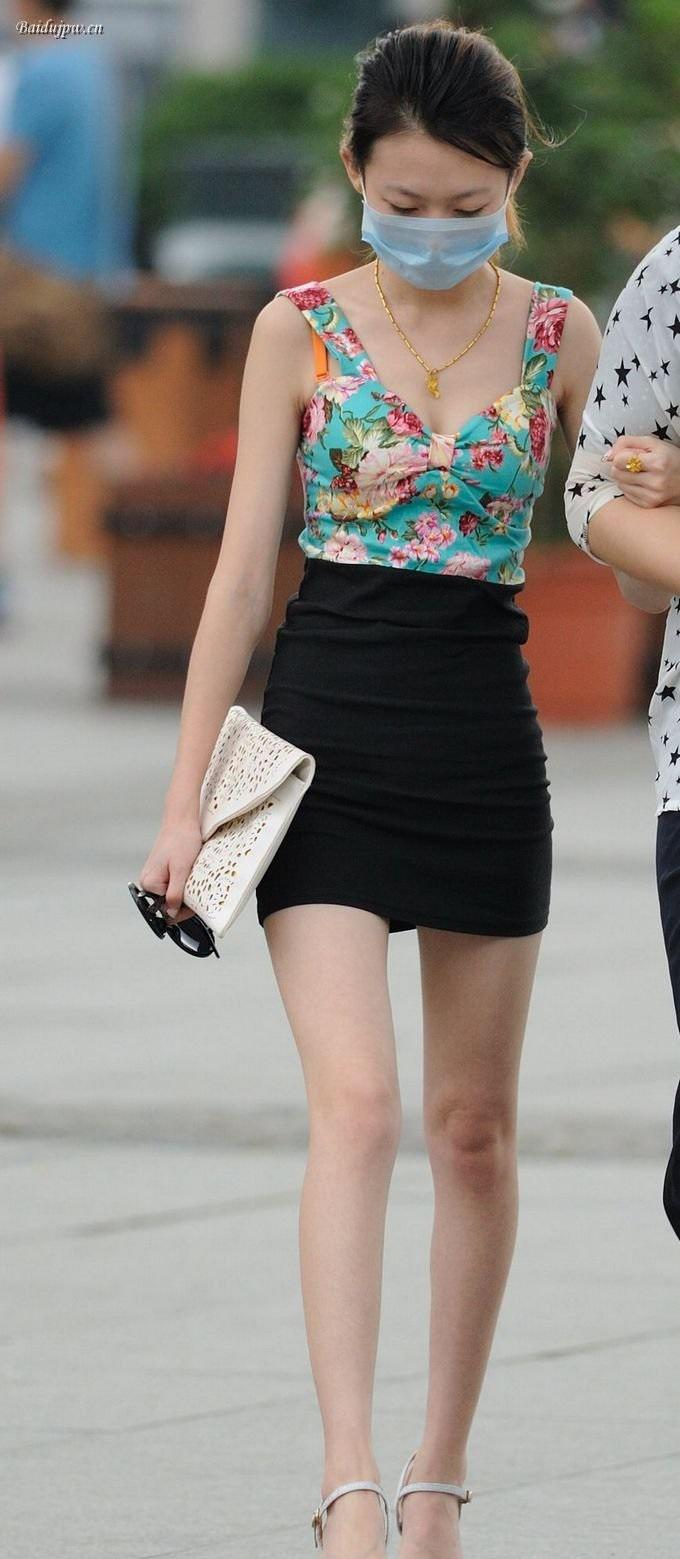OK: (356, 165, 497, 306)
